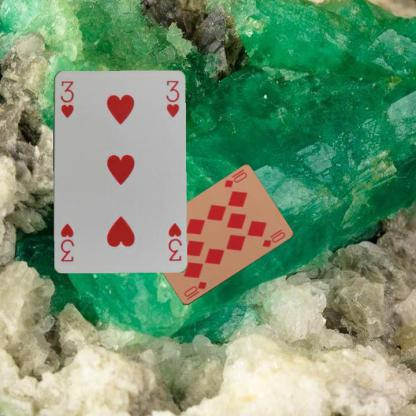10d: (221, 167, 249, 189), (181, 279, 208, 301)
3h: (165, 220, 183, 262), (57, 78, 74, 119)
